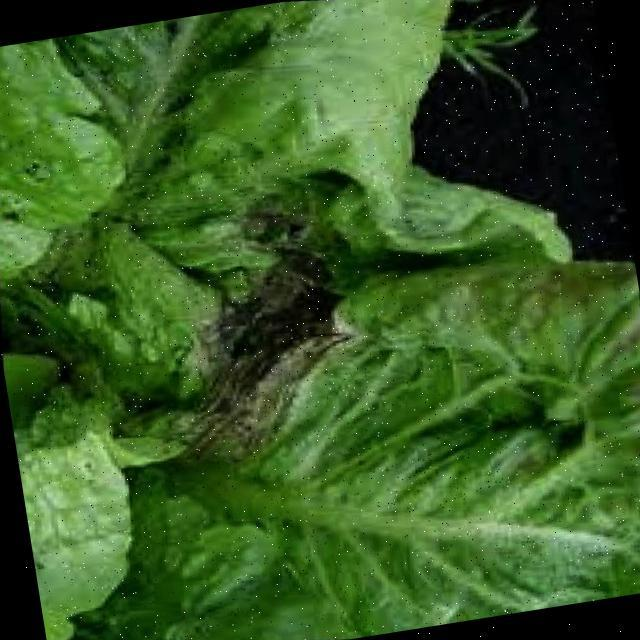Downy_Mildew: (273, 372, 640, 640), (14, 407, 183, 617)
